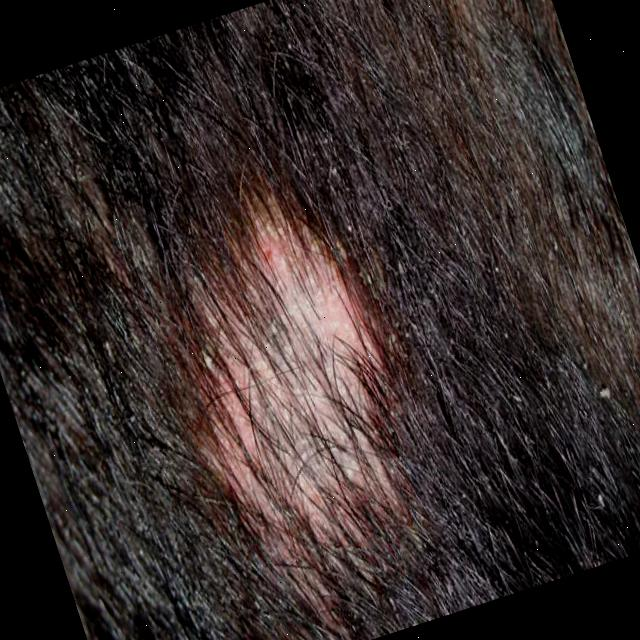cat-hairloss: (128, 163, 436, 564)
